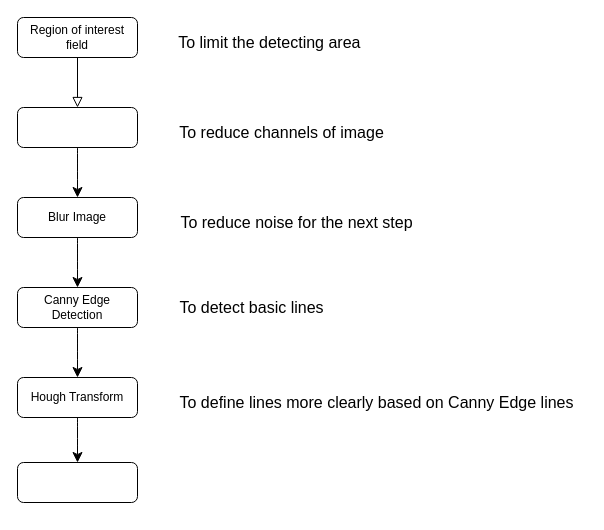
The diagram is 604 pixels wide and 530 high, and some of its shapes have lost their labels. Here are the shapes that lost their labels. From the top down, the centre of each, then its label:
point (77, 127): Gray Image
point (77, 482): Draw lines on original image
